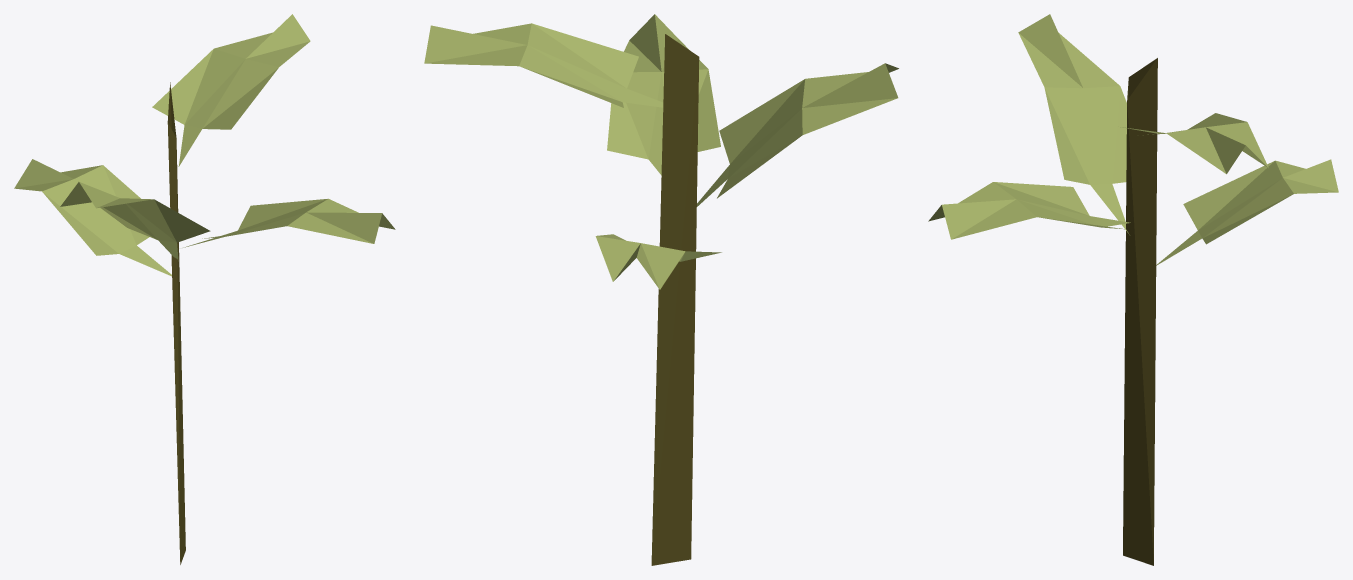
File: Viola_cuttings_2.fbx
The picture shows the model from 3 angles, left to right: view 1: azimuth 30°, elevation 25°; view 2: azimuth 150°, elevation 25°; view 3: azimuth 270°, elevation 25°; orthographic projection. The views are drawn at different scales.
Visible parts, largest first — view 1: Viola; view 2: Viola; view 3: Viola.
Boxes of the visible parts, x1,y1,x2,y2 form: Viola: [14, 14, 395, 564]; Viola: [424, 14, 898, 565]; Viola: [928, 14, 1338, 565].
Bounding box in the file's own units: 15.02 × 20.47 × 15.21.
